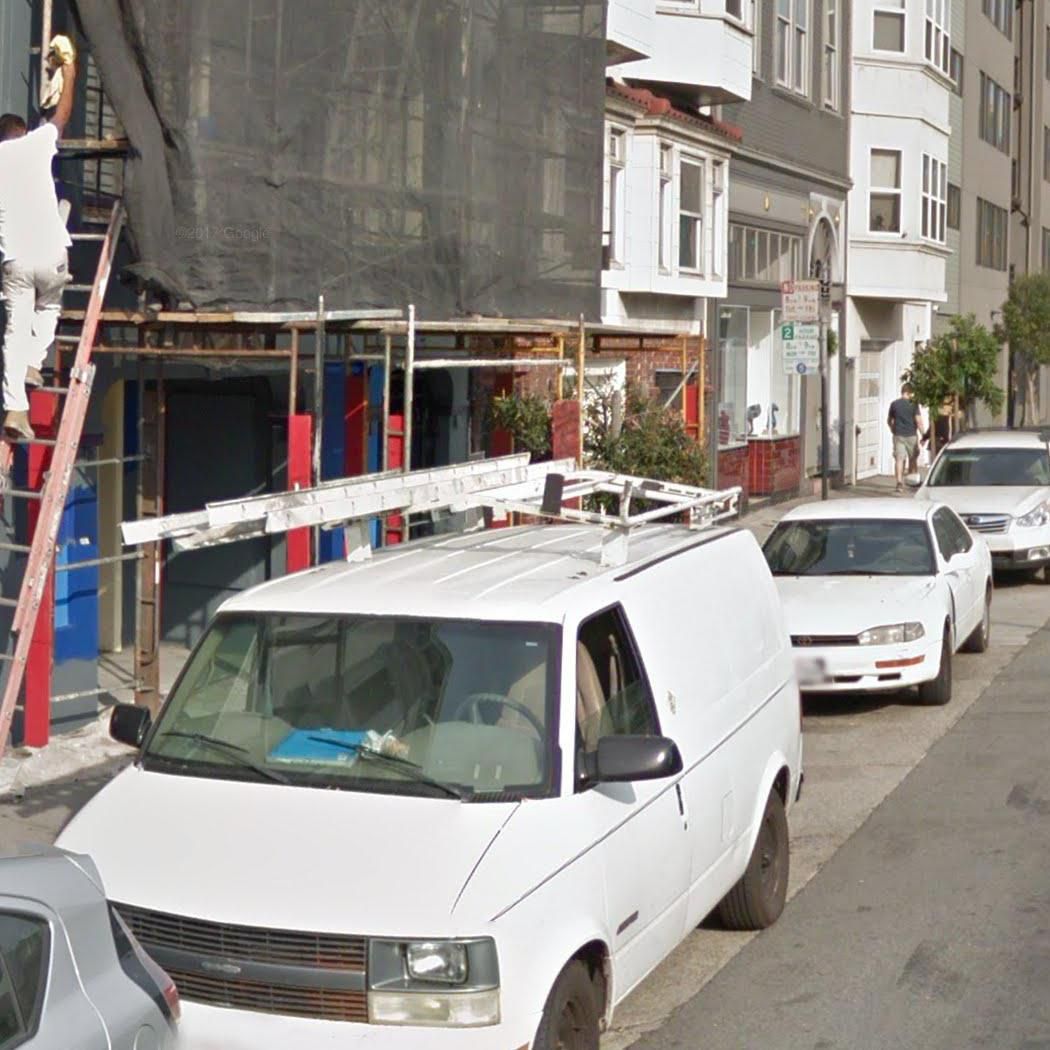2 Hour Parking: (780, 322, 823, 376)
No Parking: (779, 278, 821, 324)
